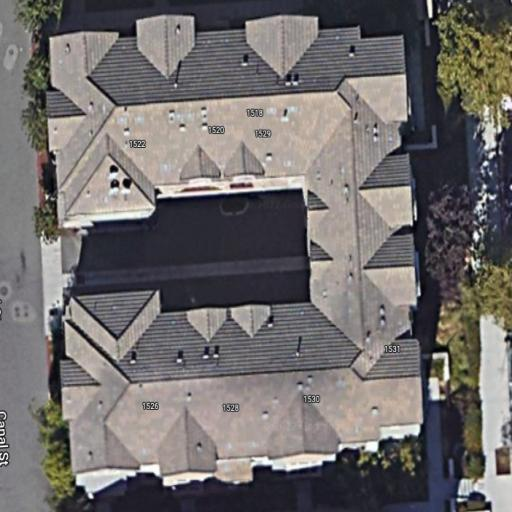Slope-Roof: (49, 15, 423, 477)
